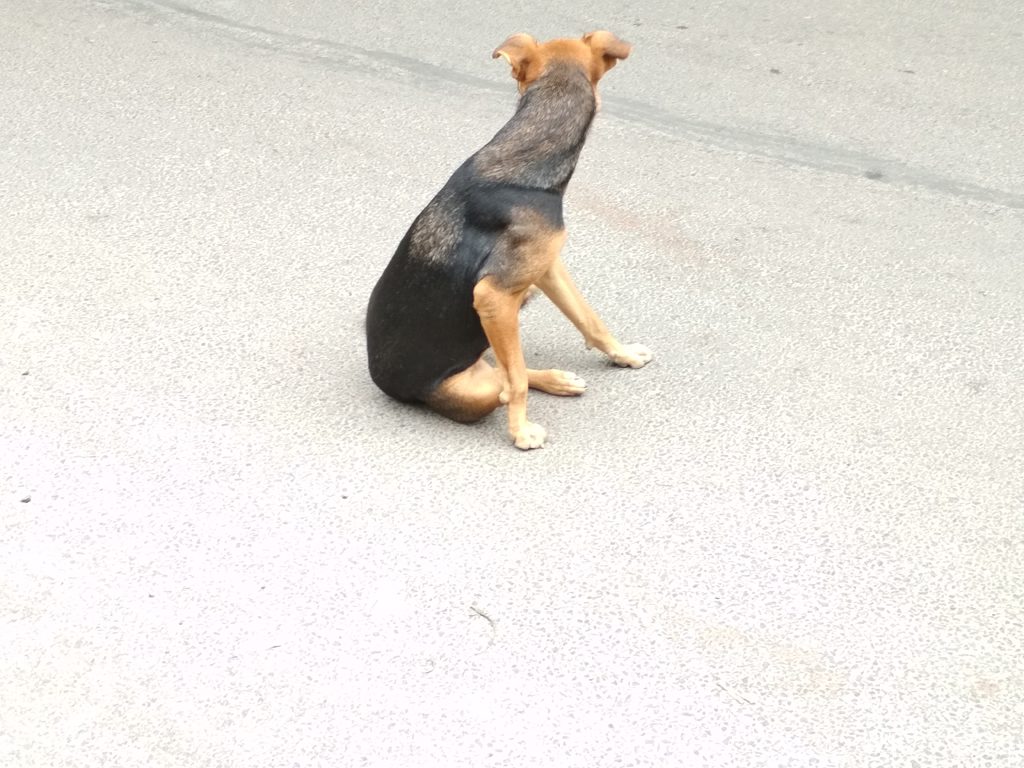dog: (366, 25, 654, 452)
